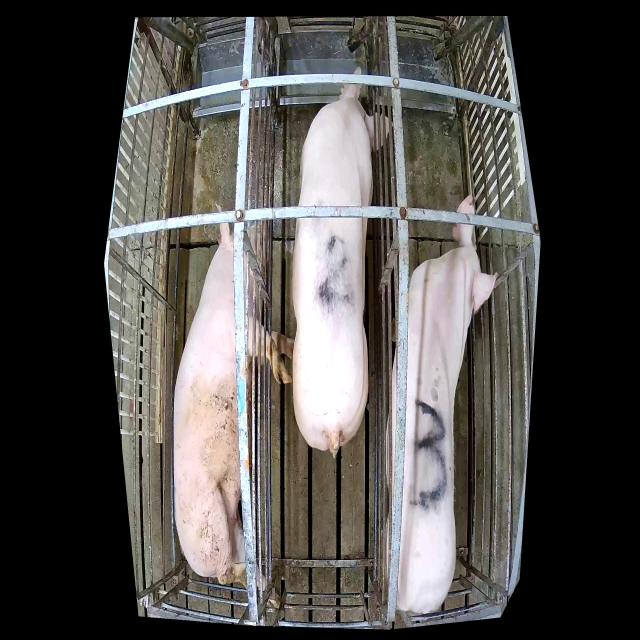pig: (174, 199, 294, 608), (381, 195, 497, 612), (292, 66, 393, 458)
